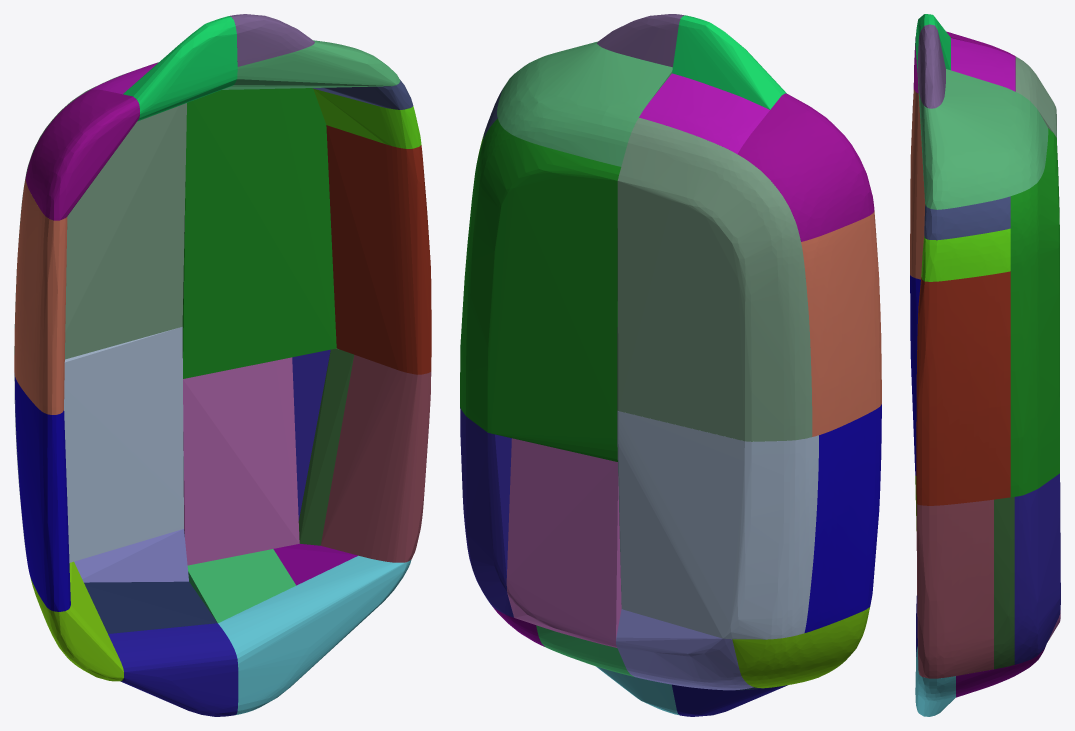
File: coacd_collision.obj
3 renders of one model, left to right at view 1: azimuth 30°, elevation 25°; view 2: azimuth 150°, elevation 25°; view 3: azimuth 270°, elevation 25°, orthographic. The views are drawn at different scales.
Visible parts, largest first — view 1: geometry_8, geometry_6, geometry_0, geometry_15, geometry_7, geometry_13, geometry_2, geometry_9, geometry_5, geometry_20, geometry_14, geometry_23 (+12 smaller); view 2: geometry_0, geometry_8, geometry_6, geometry_7, geometry_9, geometry_3, geometry_5, geometry_14, geometry_18, geometry_12, geometry_4, geometry_22 (+5 smaller); view 3: geometry_15, geometry_8, geometry_3, geometry_13, geometry_18, geometry_17, geometry_19, geometry_16, geometry_9, geometry_22, geometry_1, geometry_2 (+5 smaller).
Part boxes in pixels (x1,y1,x2,y2): geometry_8: (182, 88, 336, 378); geometry_6: (14, 327, 183, 562); geometry_0: (14, 62, 186, 359); geometry_15: (326, 125, 431, 374); geometry_7: (183, 357, 299, 565); geometry_13: (321, 355, 431, 562); geometry_2: (218, 555, 411, 715); geometry_9: (14, 179, 67, 414); geometry_5: (15, 377, 70, 611); geometry_20: (108, 623, 238, 716); geometry_14: (25, 89, 139, 220); geometry_23: (123, 16, 237, 121); geometry_0: (617, 117, 812, 441); geometry_8: (460, 118, 621, 461); geometry_6: (617, 410, 818, 639); geometry_7: (506, 438, 621, 647); geometry_9: (801, 210, 881, 436); geometry_3: (497, 41, 672, 166); geometry_5: (804, 404, 881, 632); geometry_14: (737, 93, 874, 241); geometry_18: (460, 407, 513, 617); geometry_12: (616, 609, 753, 690); geometry_4: (732, 606, 870, 688); geometry_22: (639, 73, 769, 154); geometry_15: (916, 271, 1010, 505); geometry_8: (1010, 128, 1059, 497); geometry_3: (917, 69, 1048, 209); geometry_13: (916, 499, 993, 678); geometry_18: (1014, 473, 1060, 664); geometry_17: (921, 228, 1010, 281); geometry_19: (994, 497, 1014, 669); geometry_16: (924, 196, 1010, 240); geometry_9: (910, 89, 925, 279); geometry_22: (951, 38, 1015, 91); geometry_1: (917, 24, 945, 108); geometry_2: (915, 646, 955, 716).
Size of the model in its own units: 137 by 235 by 47.31.
